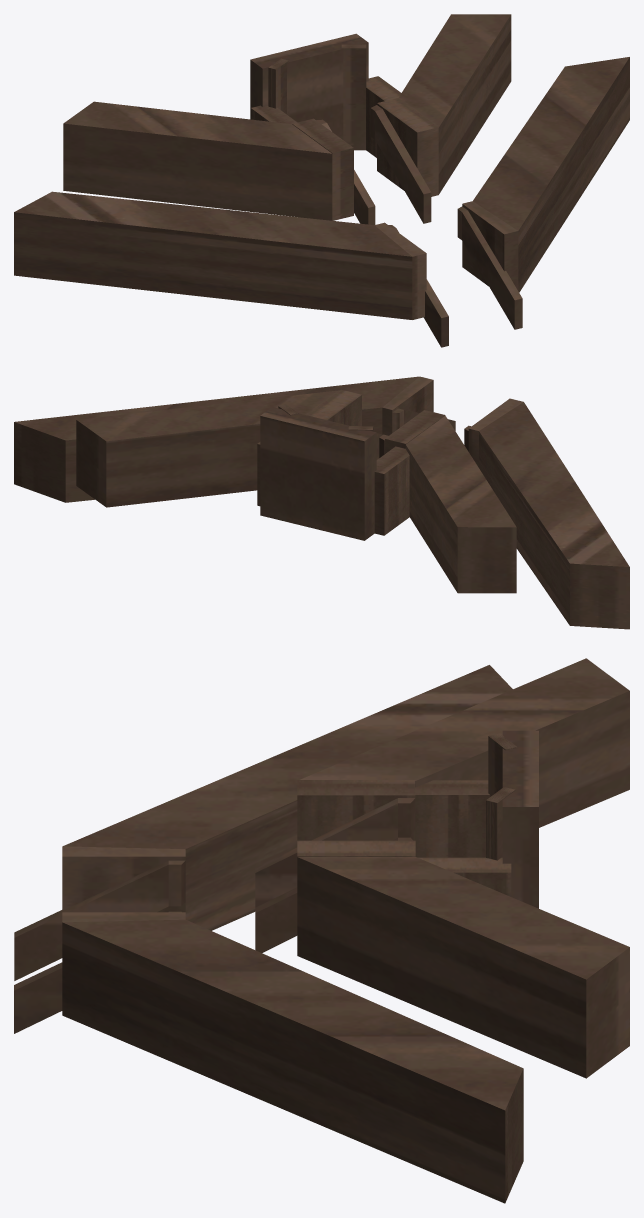
Rendered from SM_ENV_LKNVLD_Ground_HillWalls_COL.FBX.
The picture shows the model from 3 angles, top to bottom: view 1: azimuth 30°, elevation 25°; view 2: azimuth 150°, elevation 25°; view 3: azimuth 270°, elevation 25°; orthographic projection. The views are drawn at different scales.
Parts seen in each view (by area): view 1: SM_ENV_LKNVLD_Ground_HillWalls_COL; view 2: SM_ENV_LKNVLD_Ground_HillWalls_COL; view 3: SM_ENV_LKNVLD_Ground_HillWalls_COL.
Part boxes in pixels (left/top/right/bottom): SM_ENV_LKNVLD_Ground_HillWalls_COL: left=14, top=14, right=629, bottom=347; SM_ENV_LKNVLD_Ground_HillWalls_COL: left=14, top=376, right=629, bottom=629; SM_ENV_LKNVLD_Ground_HillWalls_COL: left=14, top=658, right=629, bottom=1203.
Size of the model in its own units: 8650 by 2144 by 5051.
